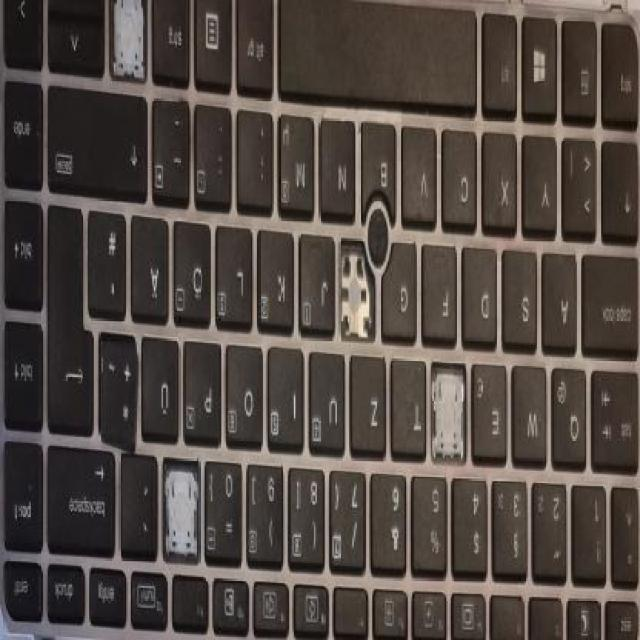Keyboard problems: (432, 366, 463, 458), (114, 0, 146, 80), (166, 469, 195, 555), (343, 254, 369, 337)
